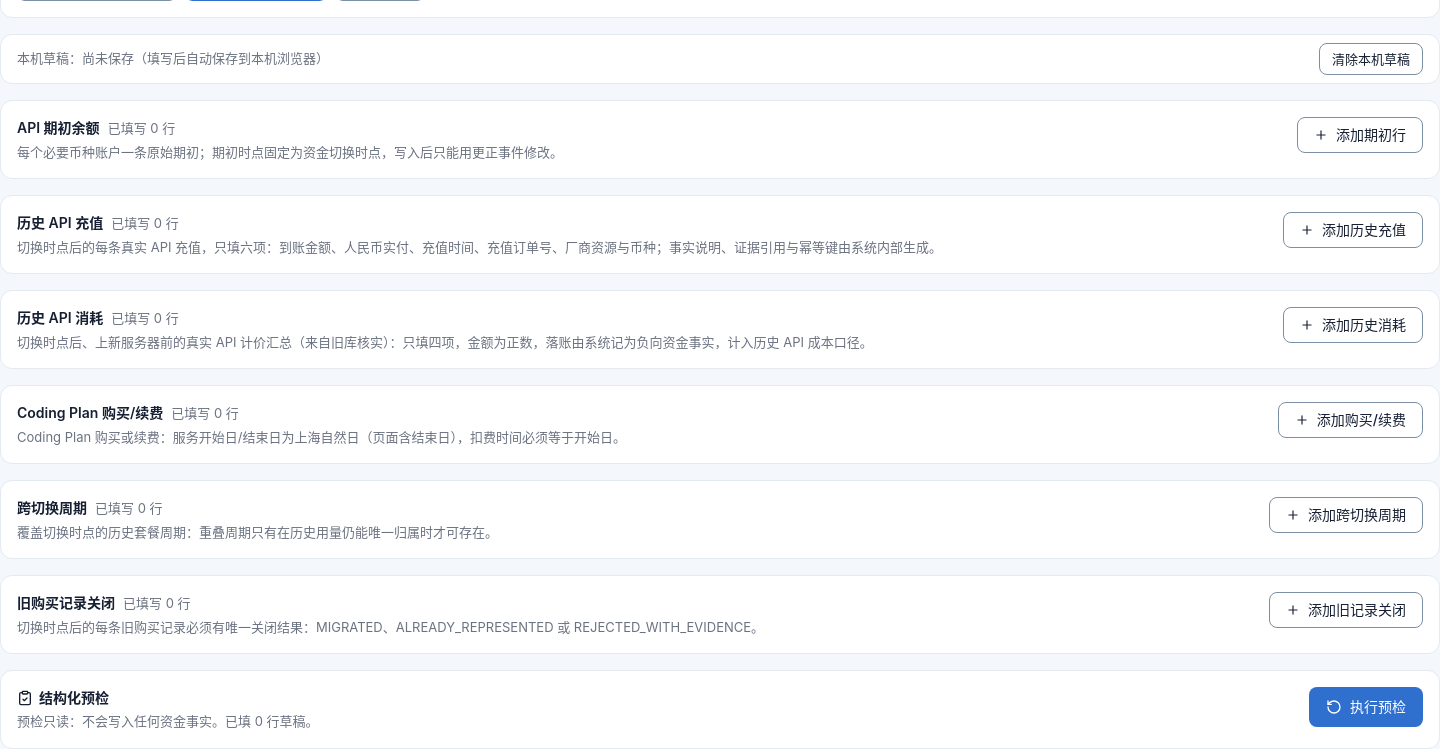
Test: 不可逆激活确认 › 候选过期后不可激活（PFU-03 即时失效）
(page scrolled)
Click the button "执行预检": (1366, 707) [1309,687,1423,727]
(page scrolled)
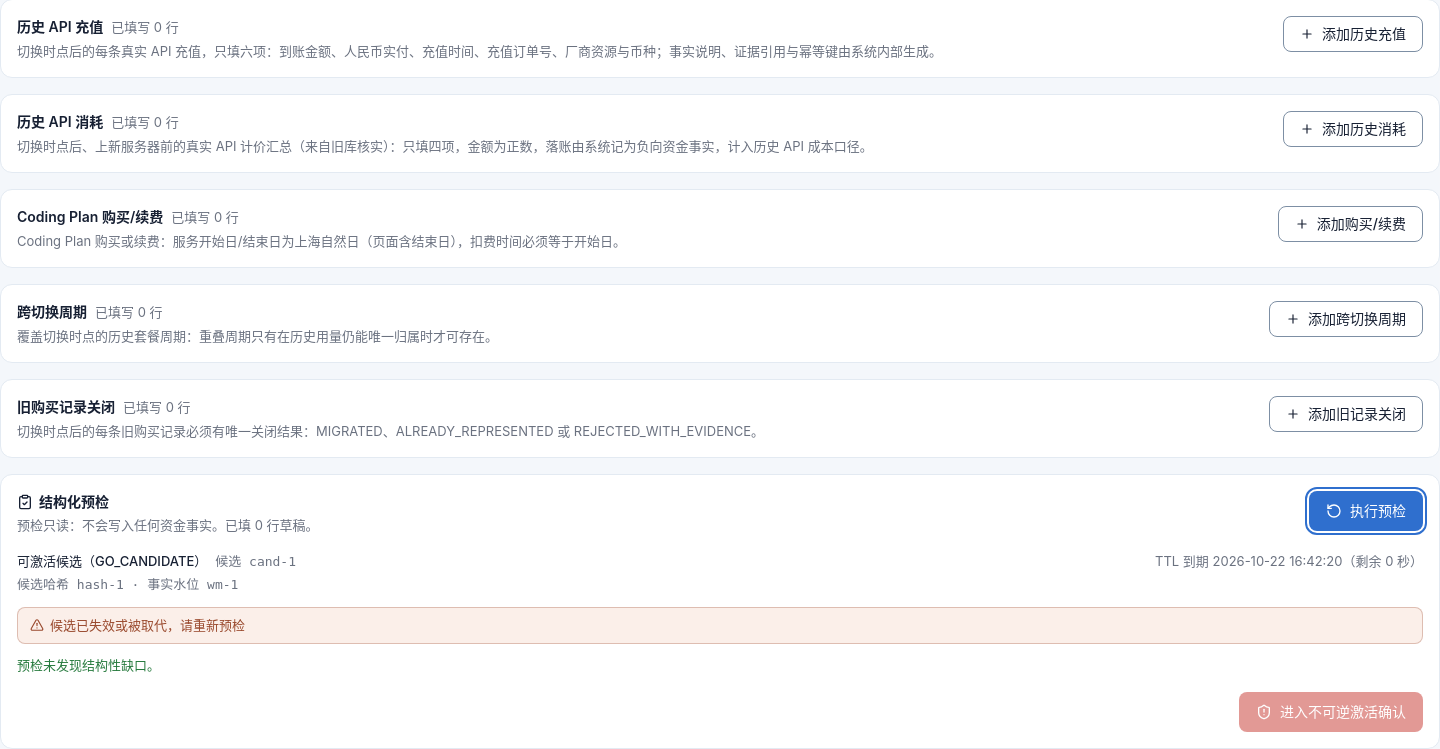
Expected: the element with test id "activation-preview-result" is shown, [17,552,1423,732]
Expected: the button "进入不可逆激活确认" is disabled, [1239,692,1423,732]
